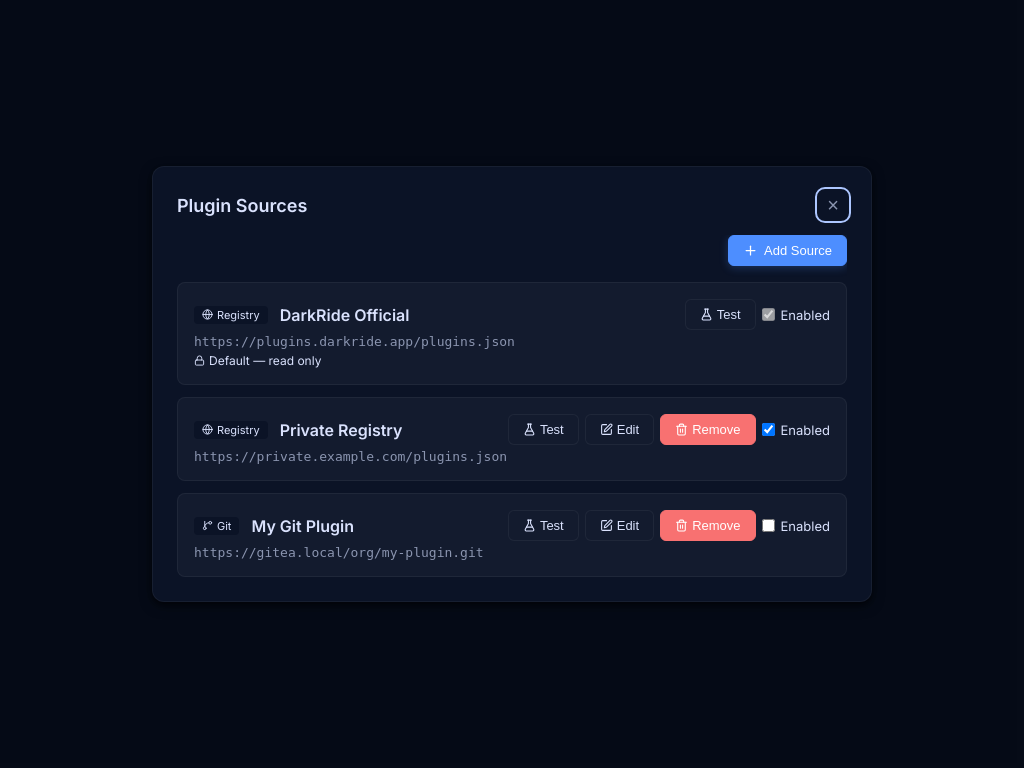
SourceManagerModal › cancel button hides the add form
expect the text "DarkRide Official" is shown: met, box [280,304,410,324]
Click the button "Add Source" at (788, 250), box [728,235,847,266]
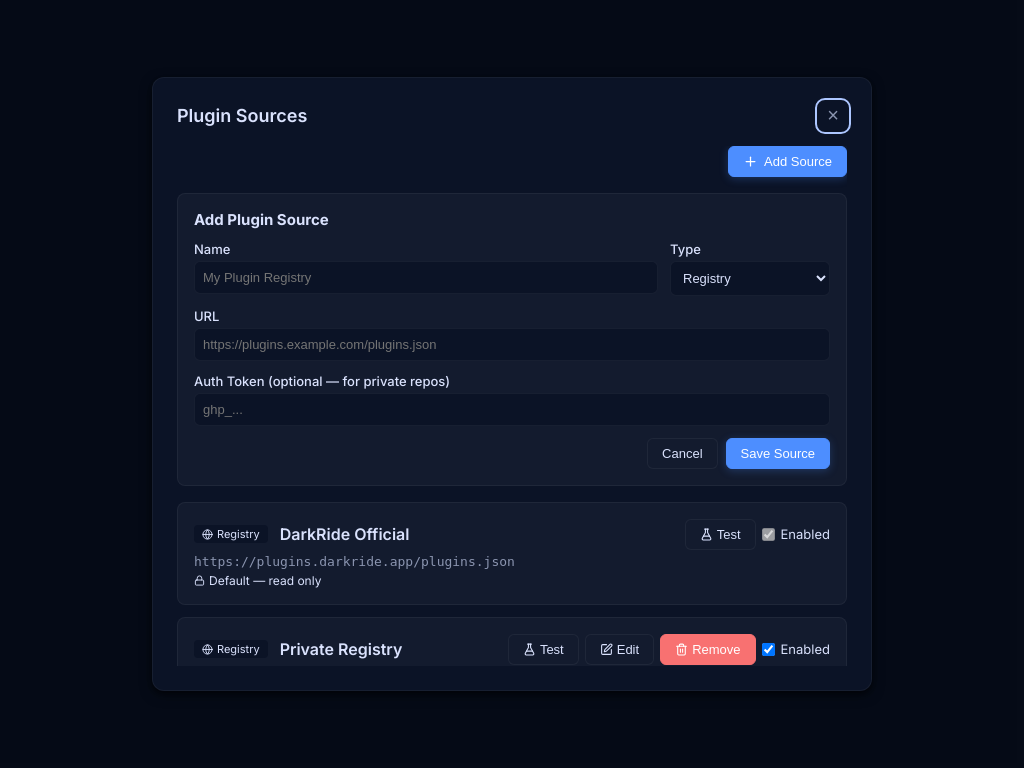
expect the heading "Add Plugin Source" is shown: met, box [194,210,329,229]
// The "Cancel" inside the add form (not the modal close)
Click the button "Cancel" at (682, 453), box [647,438,718,469]
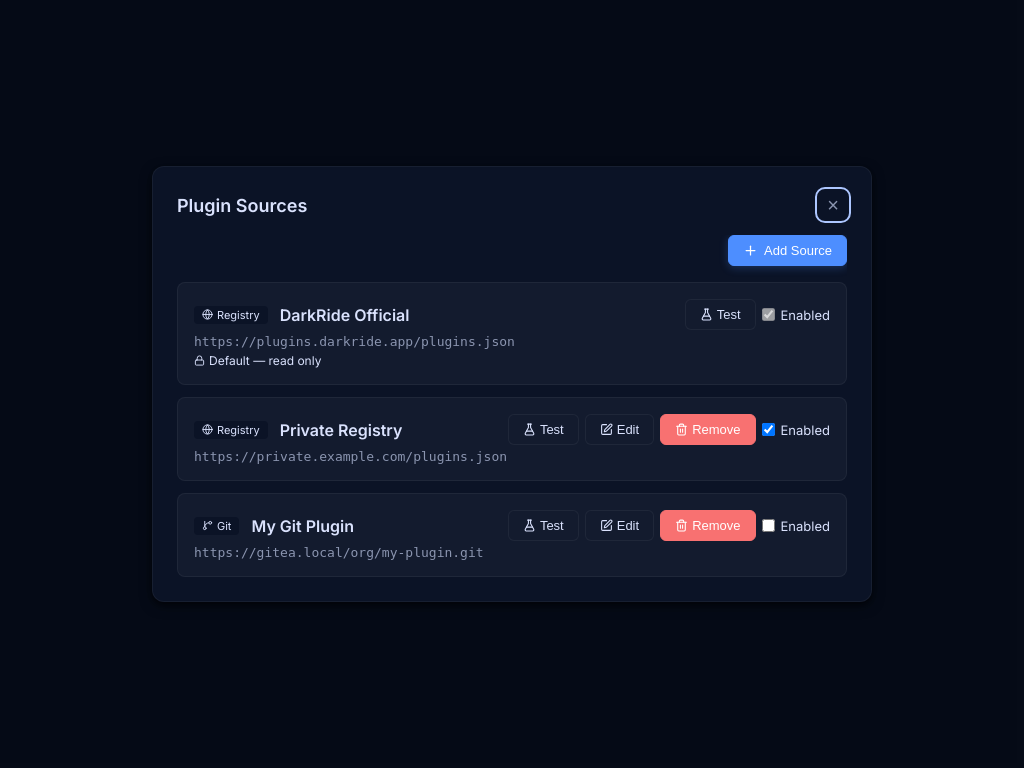
expect the heading "Add Plugin Source" is gone: met
